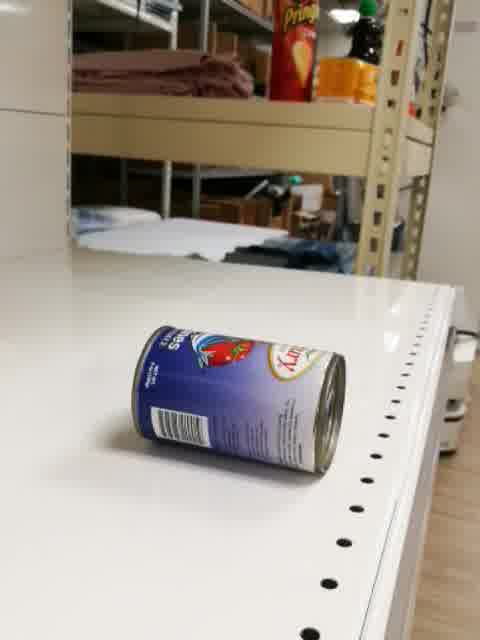sardine: (129, 325, 346, 478)
